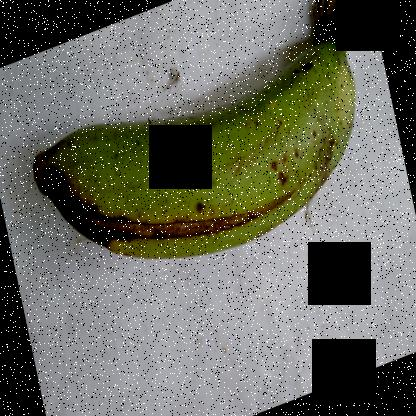rotten: (36, 156, 160, 281), (143, 179, 312, 252)
unripe: (147, 26, 367, 269)
